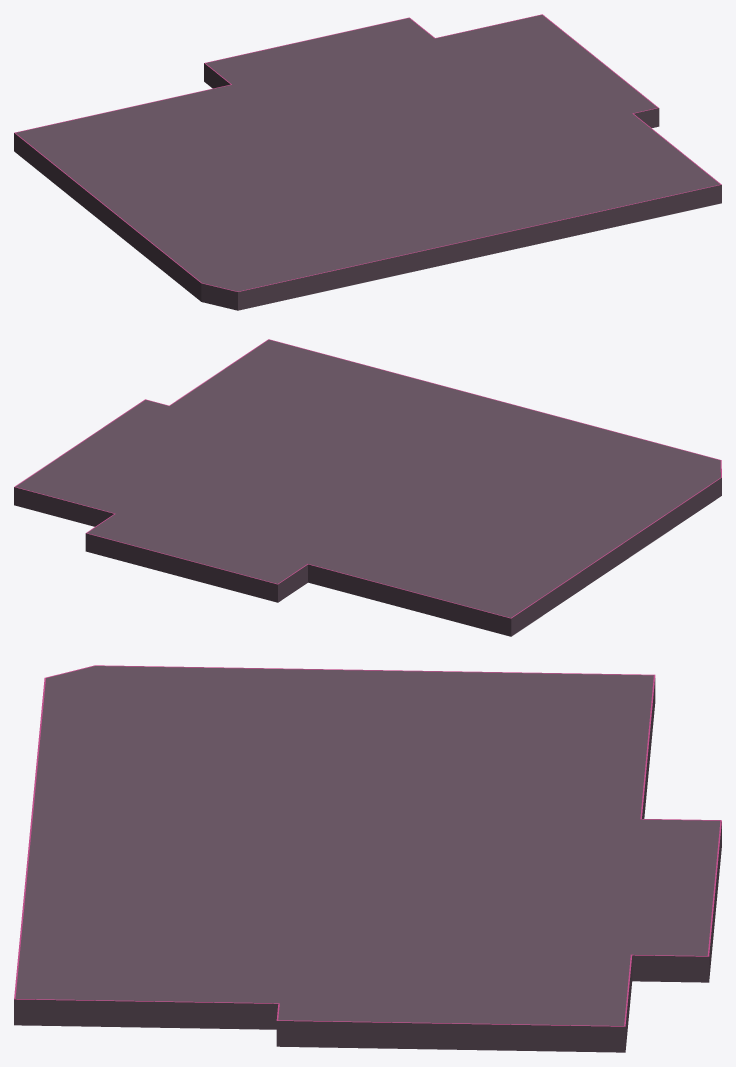
File: way-205654205.glb
3 views of the same model, one above another, from view 1: azimuth 30°, elevation 25°; view 2: azimuth 150°, elevation 25°; view 3: azimuth 270°, elevation 25° (orthographic). The views are drawn at different scales.
Visible parts, largest first — view 1: way-205654205; view 2: way-205654205; view 3: way-205654205.
Part boxes in pixels (x1,y1,x2,y2): way-205654205: (14,14,721,310); way-205654205: (14,339,721,636); way-205654205: (14,665,721,1052).
Size of the model in its own units: 89.74 by 3 by 74.29.
